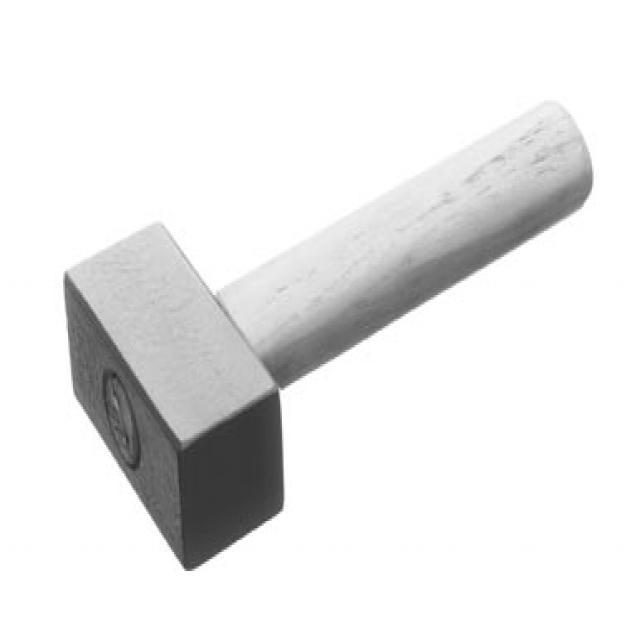hammer: (58, 84, 608, 587)
